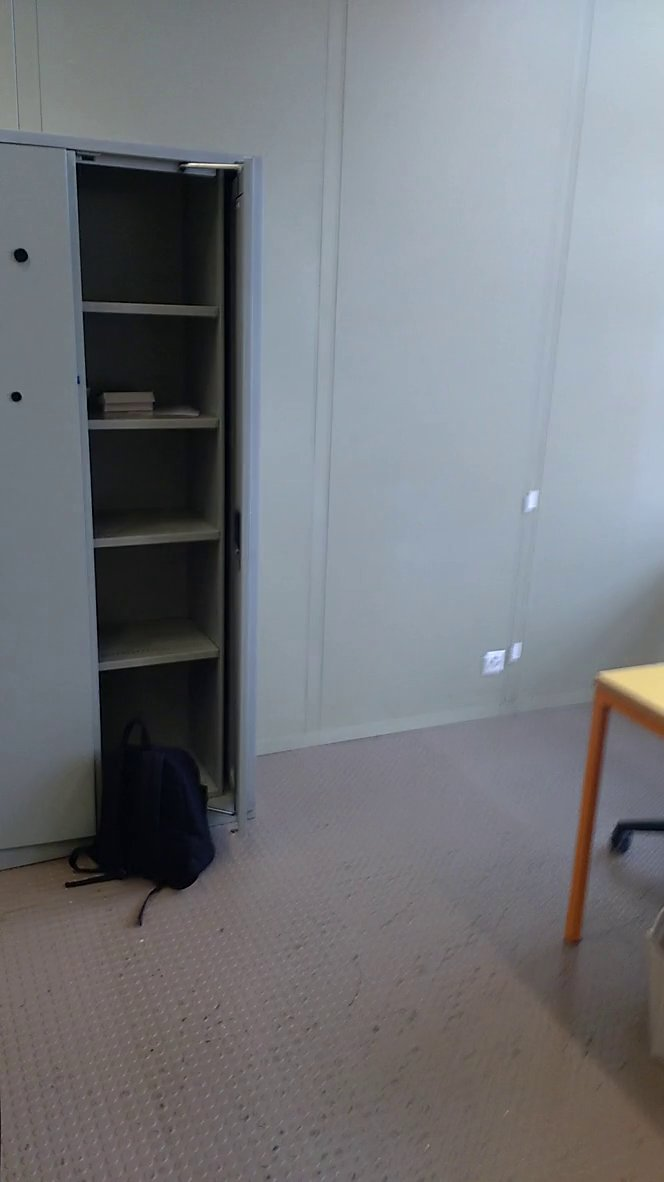bag: (57, 705, 225, 914)
